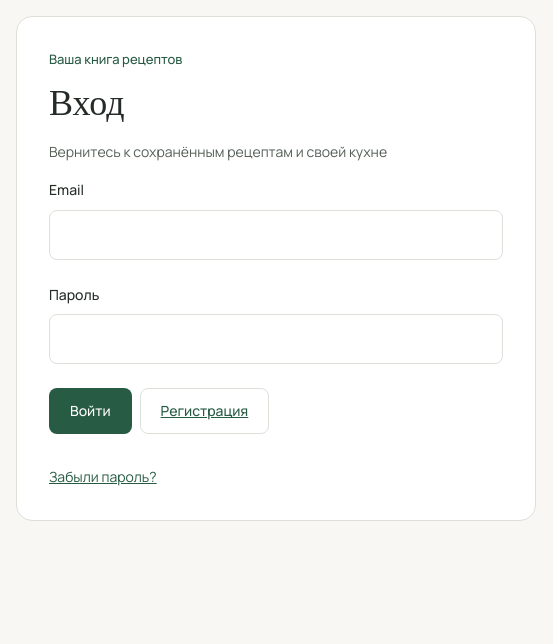
Test: показывает ограничение попыток и возвращает кнопку в рабочее состояние
The width and height of the screenshot is (553, 644).
Type "author@example.test" into the field labelled "Email" at (276, 235), box [49,210,503,260]
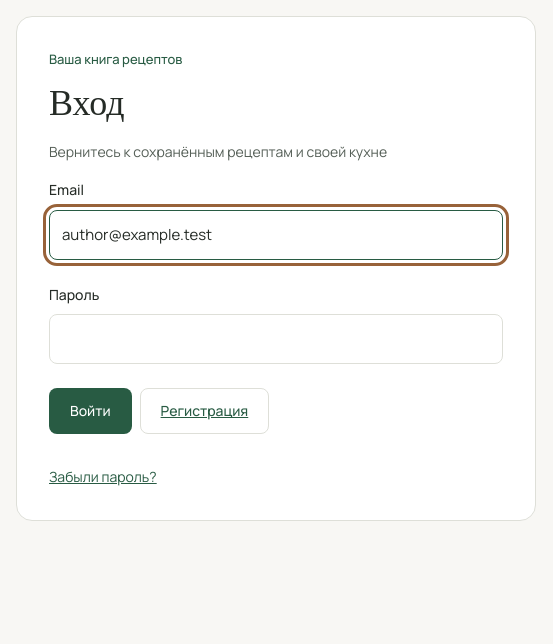
Type "incorrect" into the password field labelled "Пароль" at (276, 339), box [49,314,503,364]
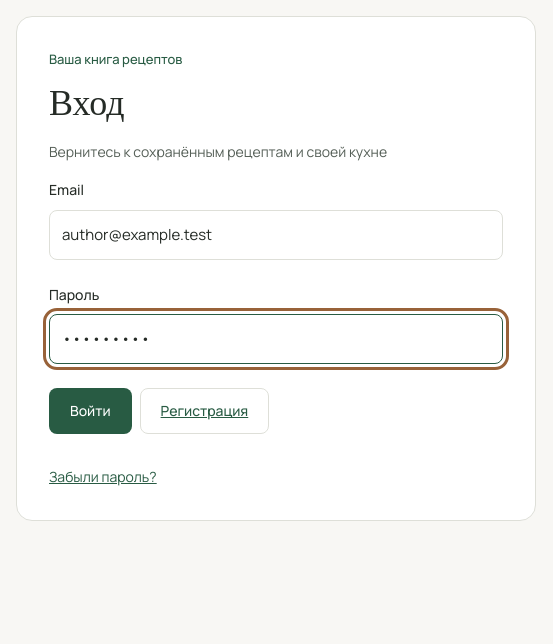
Click the button "Войти" at (90, 411), box [49,388,132,434]
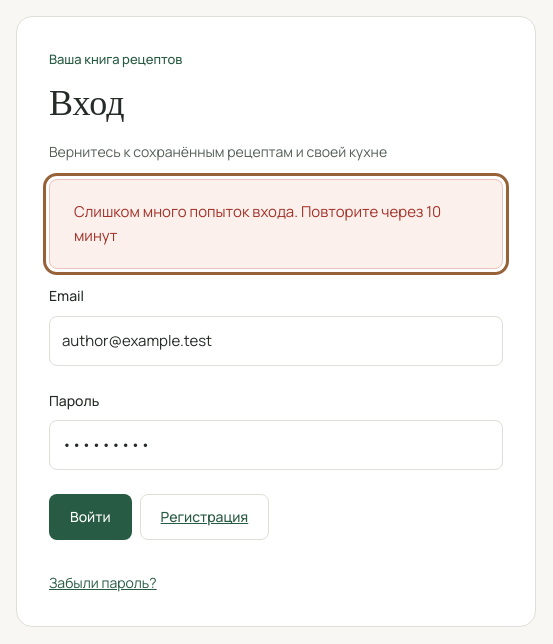
Expected: the button "Войти" is enabled, [49,494,132,540]
Result: the message shows "Слишком много попыток" at [74,201,441,246]
